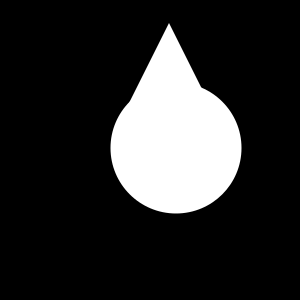rectangle: (110, 82, 241, 214)
triangle: (118, 23, 220, 125)
